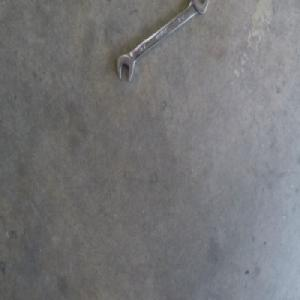Wrench: (116, 0, 207, 82)
